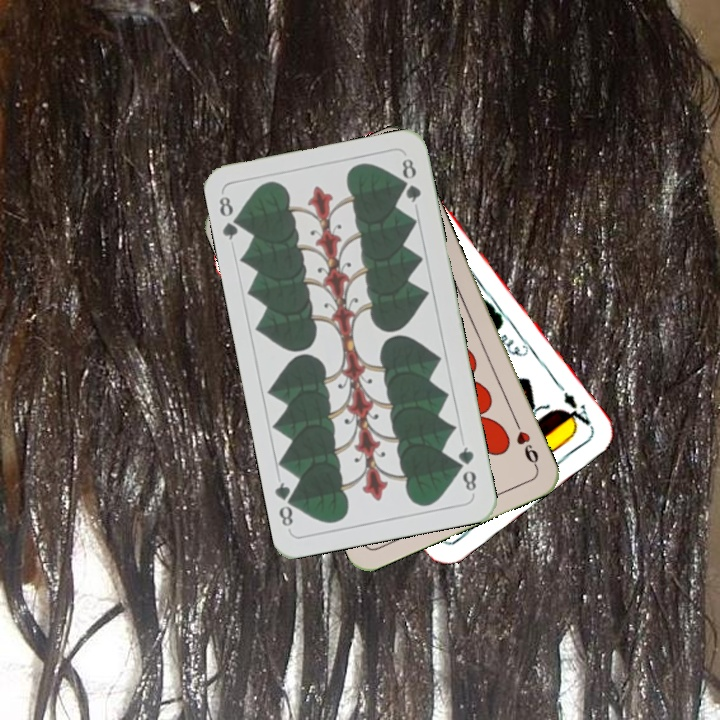EA: (553, 379, 595, 431)
G8: (215, 192, 246, 243), (453, 443, 479, 497)
H9: (510, 415, 541, 471)
